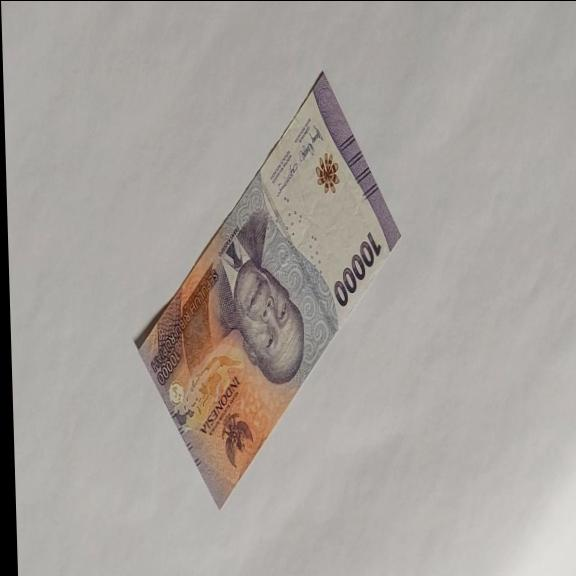Kertas: (126, 71, 409, 512), (331, 230, 384, 308)
